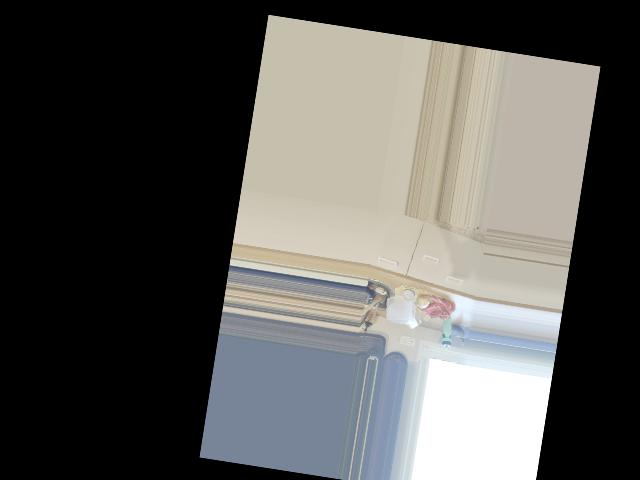onion: (416, 290, 434, 310)
